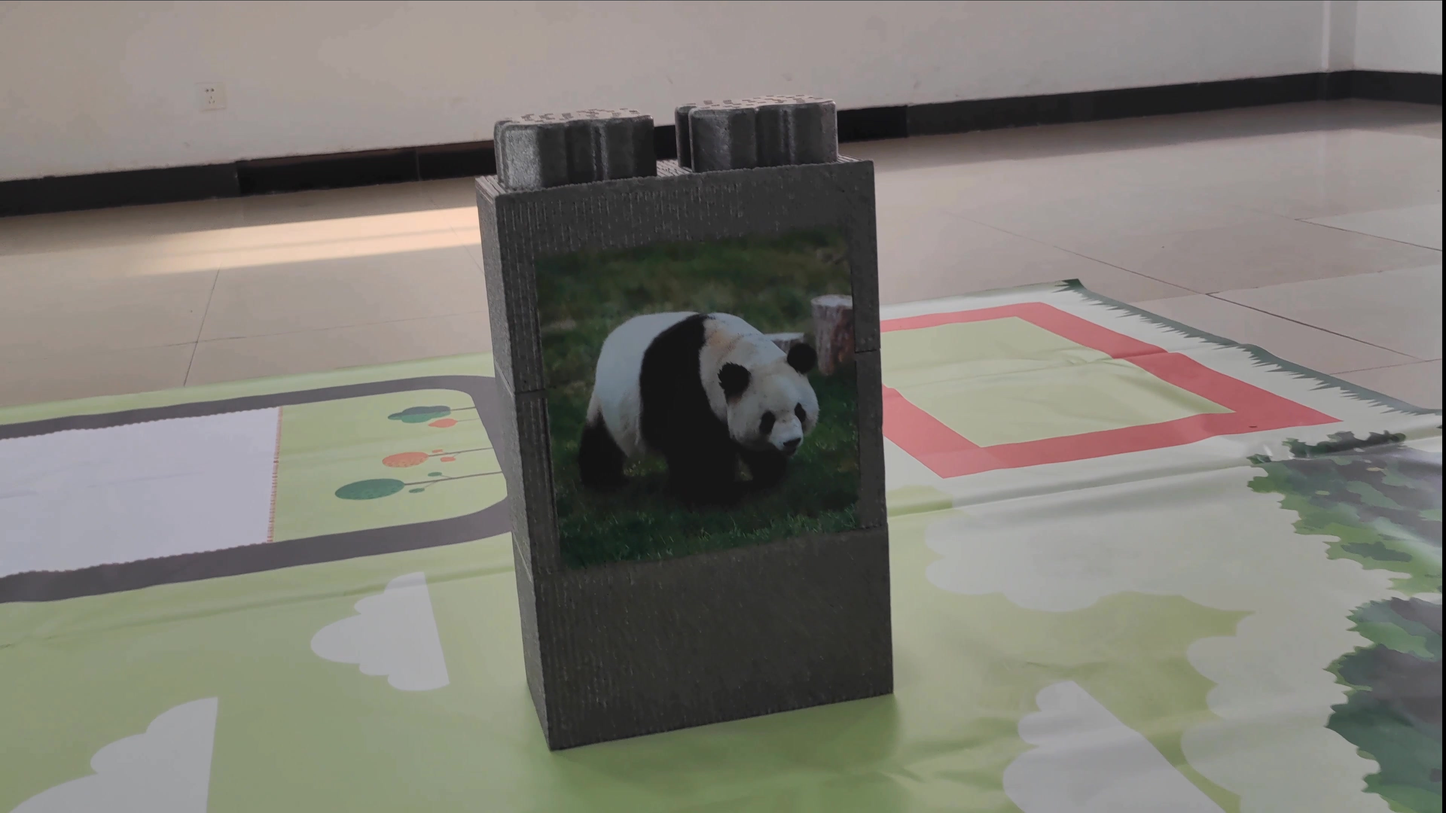panda: (561, 286, 842, 532)
